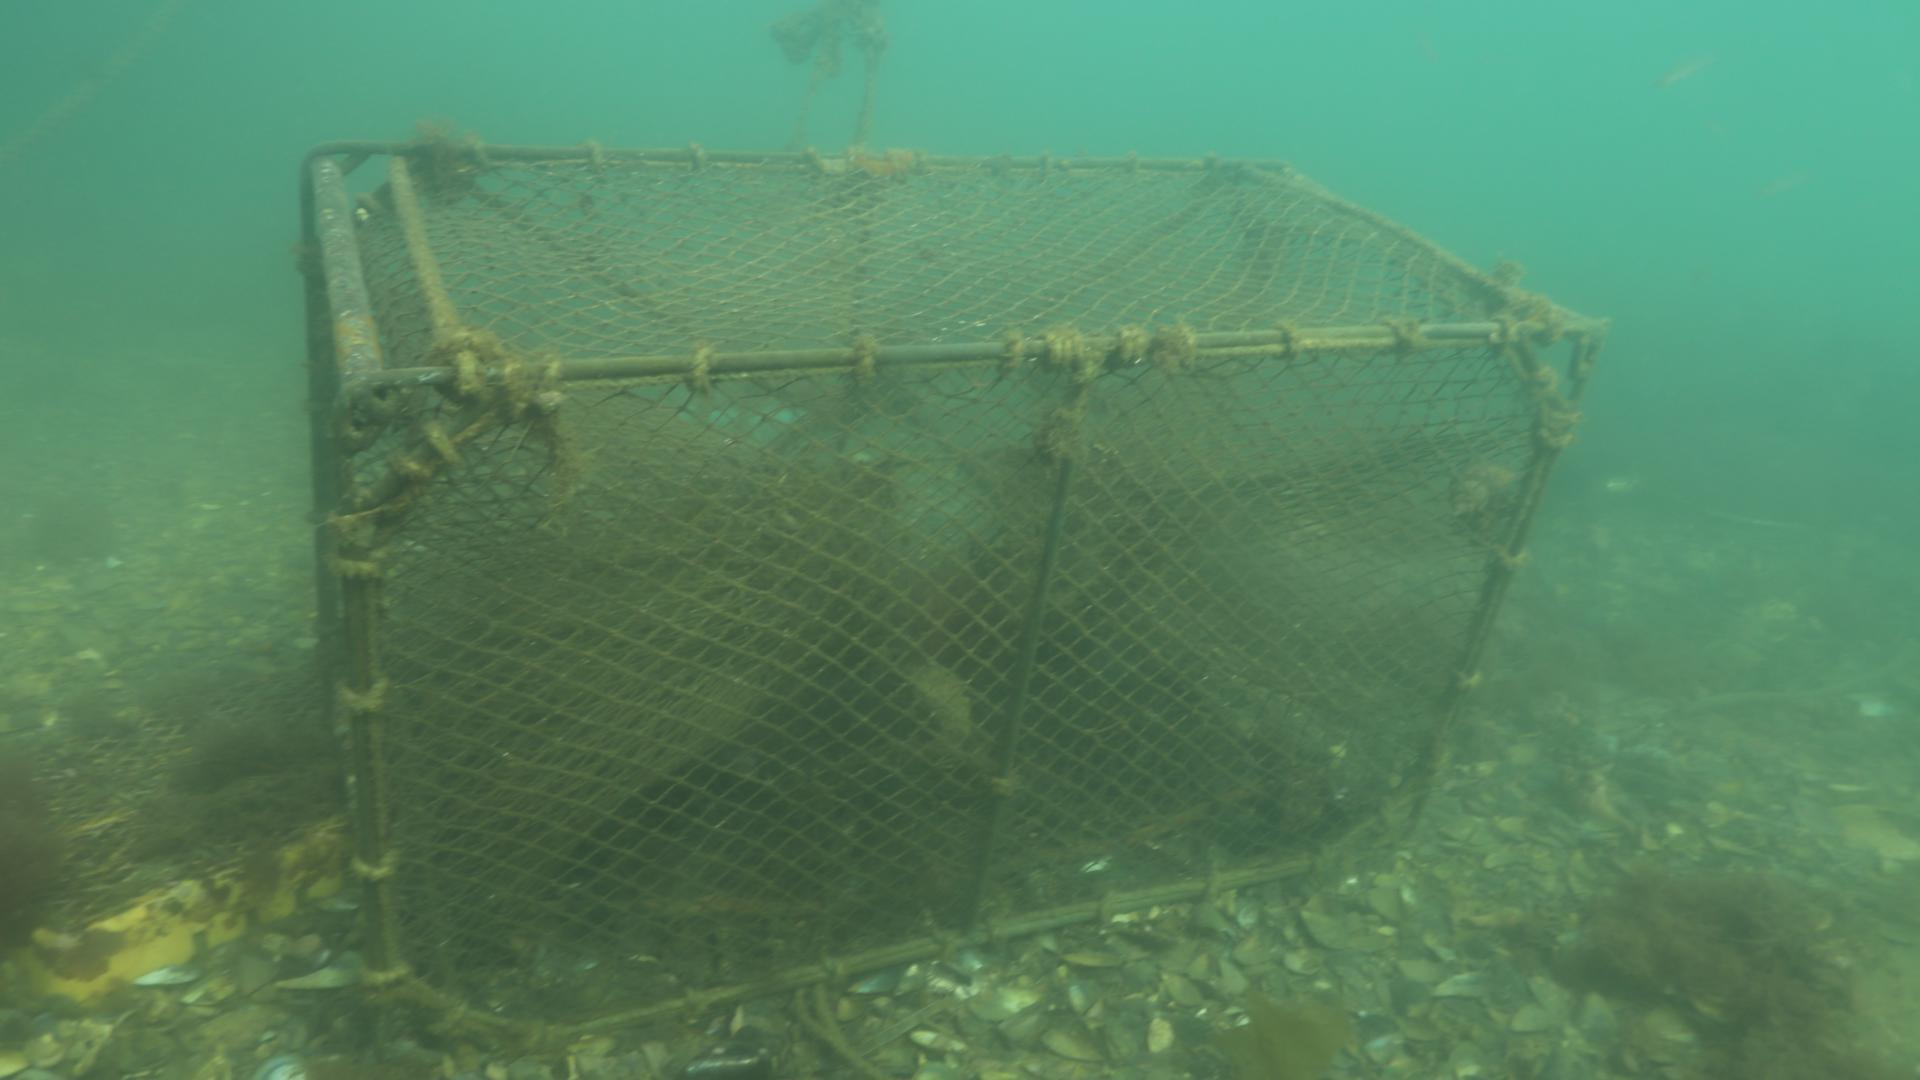rectangular fish trap: (297, 137, 1610, 1046)
